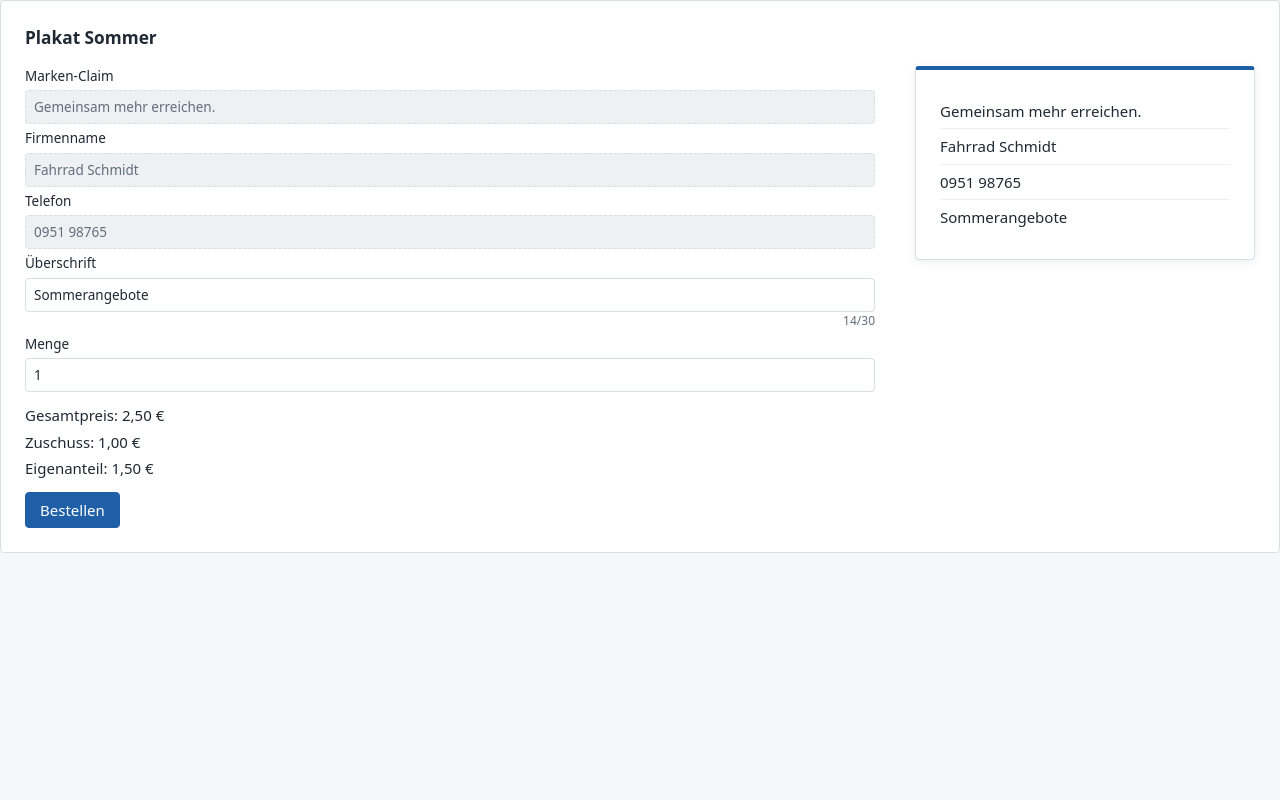
Test case: TemplateEditorPage › ui5_insufficientBalanceShowsHint
Replace the text in the number field labelled "Menge" with "5" at (450, 375), box [25,358,875,392]
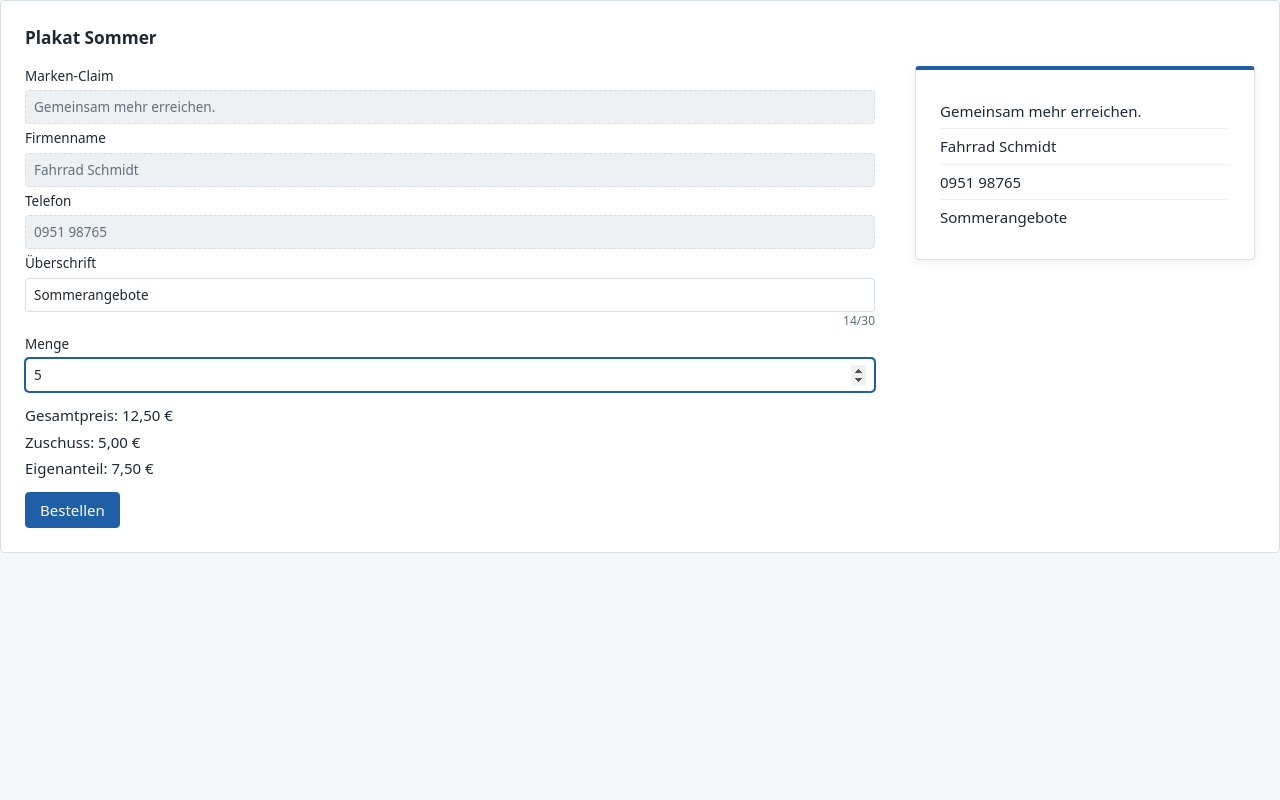
Check: the text "Guthaben reicht nicht für den Zuschuss." is not shown
Check: the text "Zuschuss: 5,00 €" is shown, box [25,432,140,452]
Replace the text in the number field labelled "Menge" with "6" at (450, 375), box [25,358,875,392]
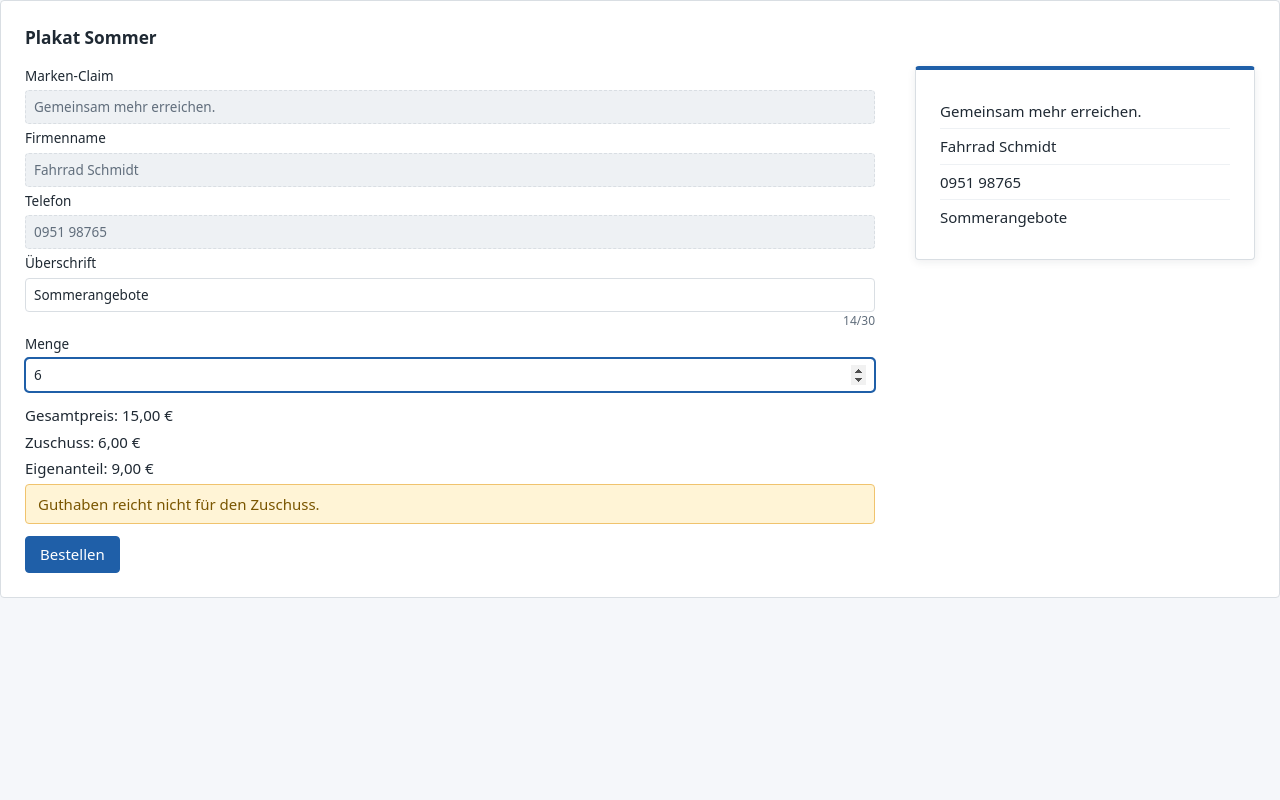
Check: the text "Zuschuss: 6,00 €" is shown, box [25,432,140,452]
Check: the text "Guthaben reicht nicht für den Zuschuss." is shown, box [25,484,875,524]
